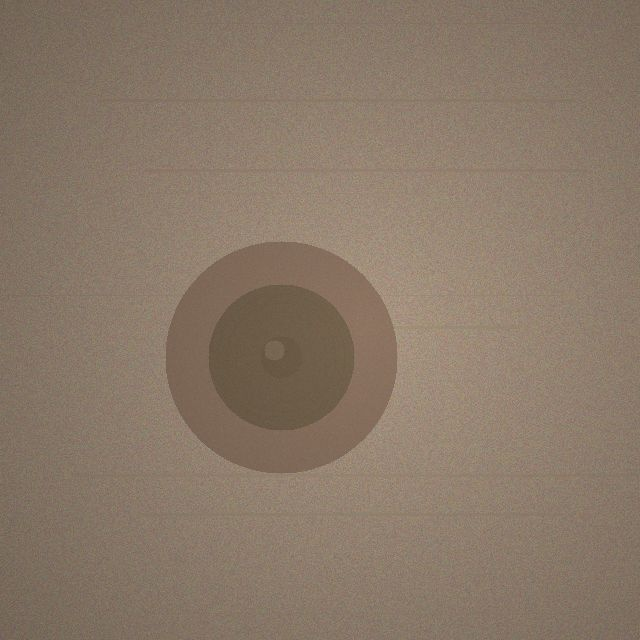good: (165, 241, 397, 473)
